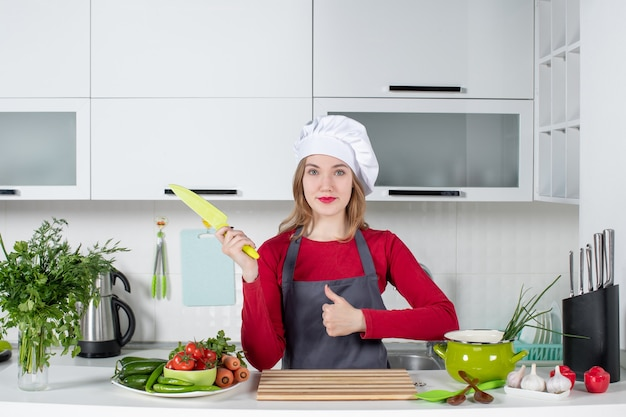knife: (167, 185, 230, 229)
